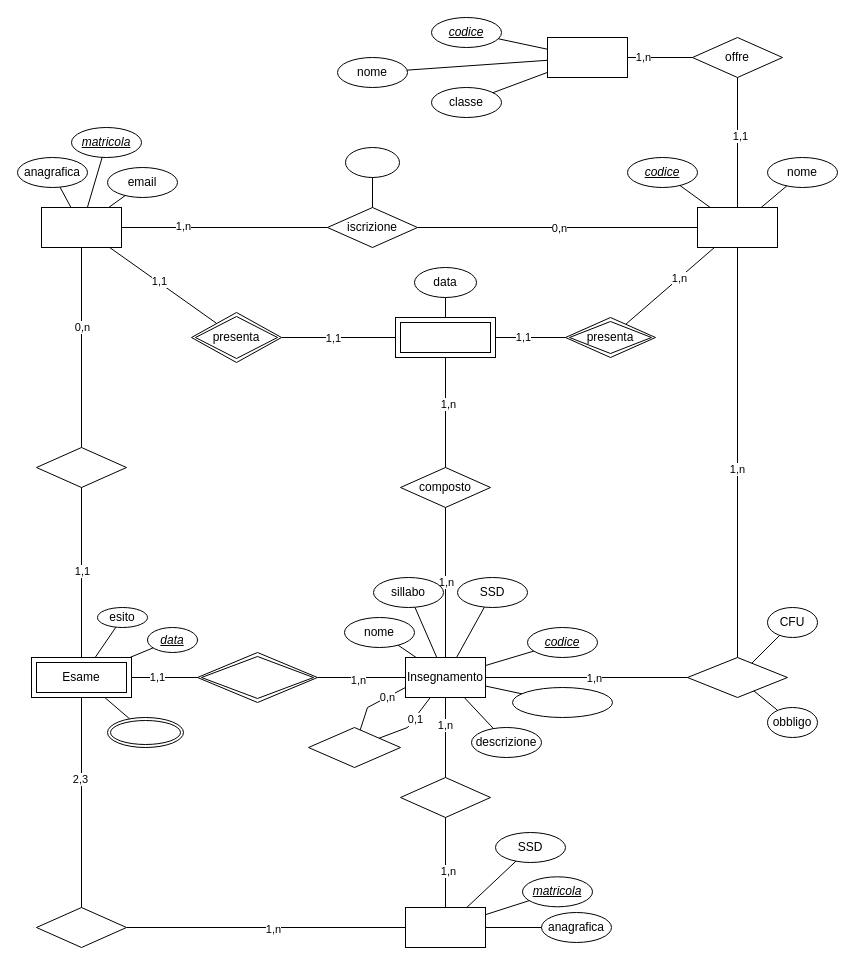
This 855x965 diagram has some shape labels left out. Here are the shapes that lost their labels. From the top down, the centre of each, then its label:
the point at 587,57: CorsoDiLaurea
the point at 372,162: anno
the point at 81,227: Studente
the point at 737,227: Curriculum
the point at 445,337: PianoDiStudi
the point at 81,467: sostiene
the point at 257,677: Relationship
the point at 737,677: articolato
the point at 562,702: modalitaEsame
the point at 145,732: argomenti
the point at 354,747: propedeuticità
the point at 445,797: cattedra
the point at 81,927: commissione
the point at 445,927: Docente
